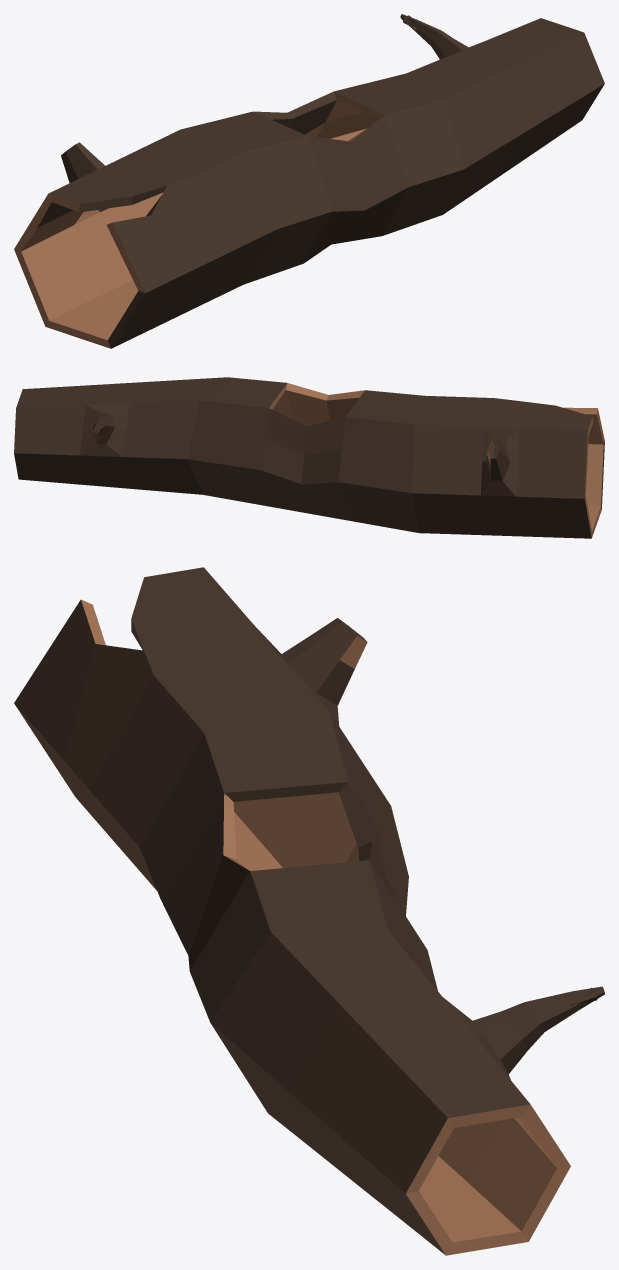
Rendered from Tronco.fbx.
3 renders of one model, top to bottom at view 1: azimuth 30°, elevation 25°; view 2: azimuth 150°, elevation 25°; view 3: azimuth 270°, elevation 25°, orthographic. The views are drawn at different scales.
Visible parts, largest first — view 1: Tronco.001; view 2: Tronco.001; view 3: Tronco.001.
Part boxes in pixels (box(x1,y1,x2,y2)): Tronco.001: box(14, 14, 604, 348); Tronco.001: box(14, 377, 604, 538); Tronco.001: box(14, 567, 604, 1255).
Bounding box in the file's own units: 144 × 30.42 × 72.26.
